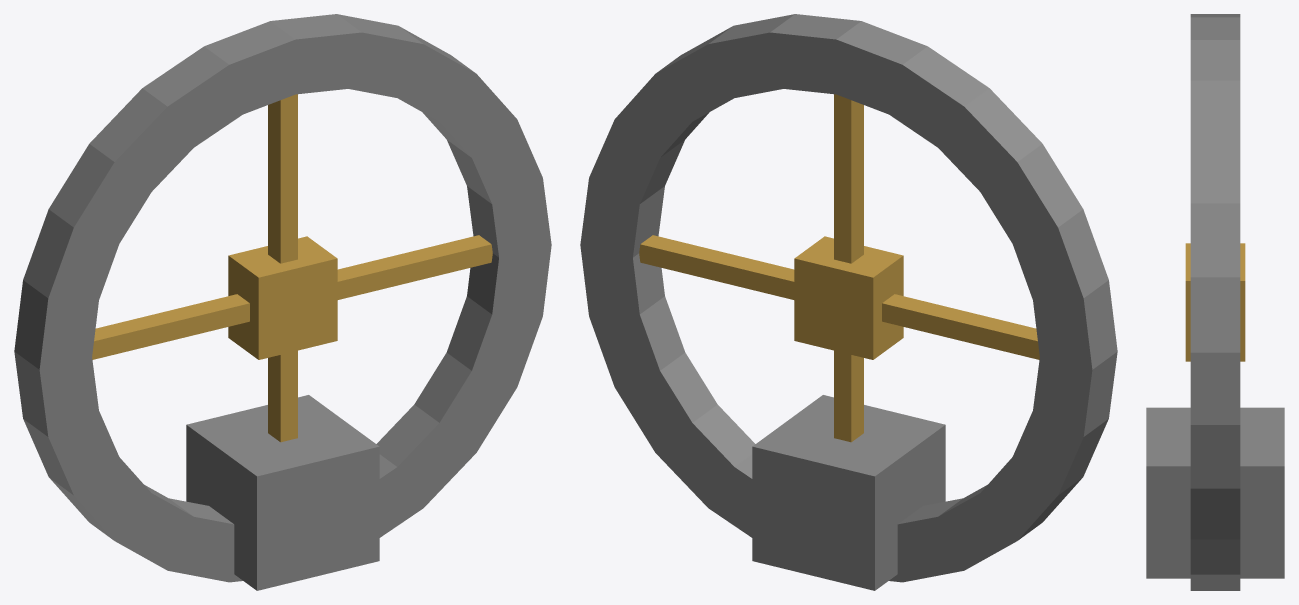
The model's file is space_rings.obj.
3 renders of one model, left to right at view 1: azimuth 30°, elevation 25°; view 2: azimuth 150°, elevation 25°; view 3: azimuth 270°, elevation 25°, orthographic. The views are drawn at different scales.
Size of the model in its own units: 2.34 by 2.34 by 0.56.
